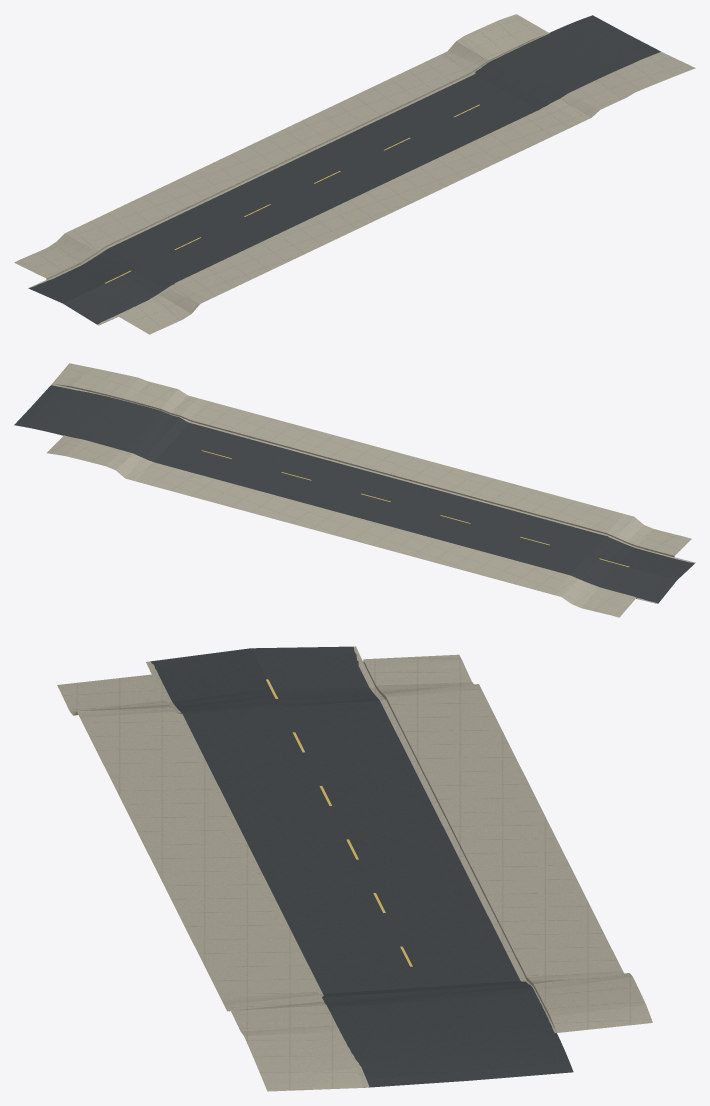
The picture shows the model from 3 angles, top to bottom: view 1: azimuth 30°, elevation 25°; view 2: azimuth 150°, elevation 25°; view 3: azimuth 270°, elevation 25°; orthographic projection. The views are drawn at different scales.
Parts seen in each view (by area): view 1: Carriageway, Clipped sidewalks with lowered crossing approaches, Concrete drainage margins, Raised curb faces; view 2: Carriageway, Clipped sidewalks with lowered crossing approaches, Concrete drainage margins, Raised curb faces; view 3: Carriageway, Clipped sidewalks with lowered crossing approaches, Concrete drainage margins, Raised curb faces.
Part boxes in pixels (x1,y1,x2,y2): Carriageway: (29, 15, 660, 324); Clipped sidewalks with lowered crossing approaches: (14, 14, 695, 334); Concrete drainage margins: (28, 33, 663, 325); Raised curb faces: (46, 34, 545, 316); Carriageway: (14, 385, 694, 603); Clipped sidewalks with lowered crossing approaches: (46, 363, 691, 617); Concrete drainage margins: (51, 384, 695, 603); Raised curb faces: (55, 384, 674, 598); Carriageway: (150, 646, 573, 1087); Clipped sidewalks with lowered crossing approaches: (57, 654, 652, 1091); Concrete drainage margins: (146, 646, 556, 1087); Raised curb faces: (363, 660, 555, 1029).
Bounding box in the file's own units: 66.28 × 7.9 × 28.
